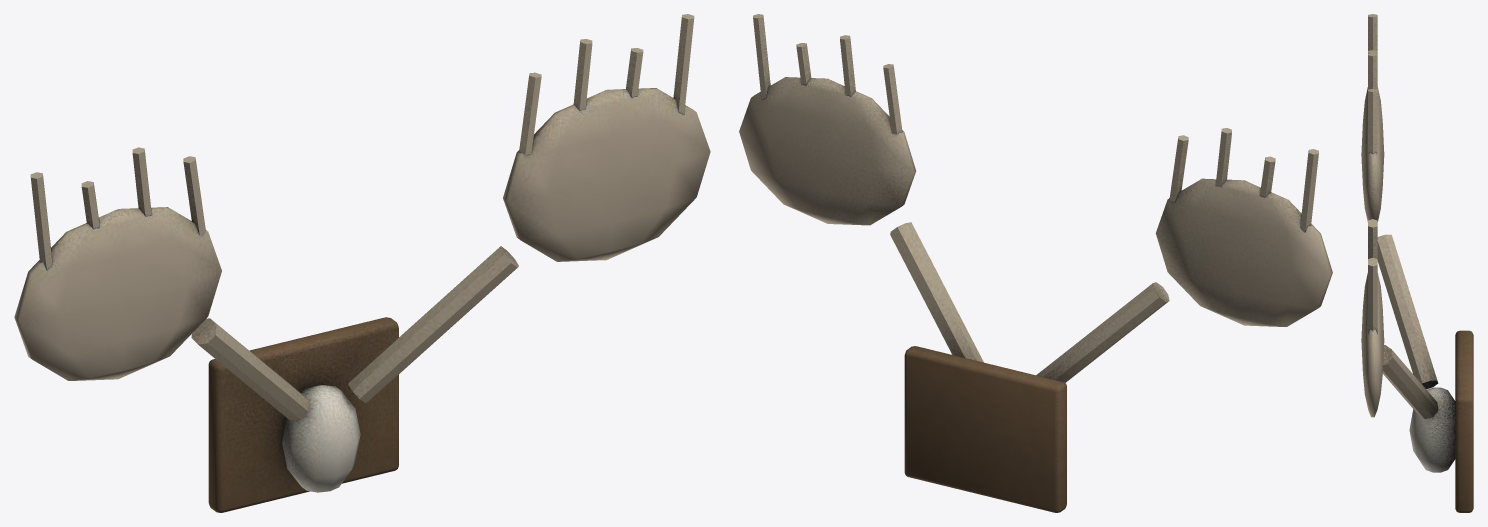
File: antlers.glb
3 renders of one model, left to right at view 1: azimuth 30°, elevation 25°; view 2: azimuth 150°, elevation 25°; view 3: azimuth 270°, elevation 25°, orthographic. The views are drawn at different scales.
Parts seen in each view (by area): view 1: beam-1; view 2: beam-1; view 3: beam-1.
Boxes of the visible parts, bbox=[...] form: beam-1: bbox=[14, 14, 710, 512]; beam-1: bbox=[739, 14, 1332, 512]; beam-1: bbox=[1361, 14, 1473, 512].
Bounding box in the file's own units: 1.36 × 0.8213 × 0.245.
Materials: 1 (1 with a texture image).
